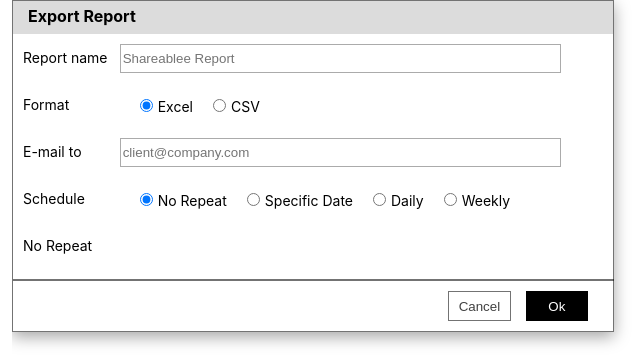
Export report modal basic functionalities tests › should be able to check schedule radio buttons
Click the radio button labelled "Specific Date": (253, 200) [247,193,260,206]
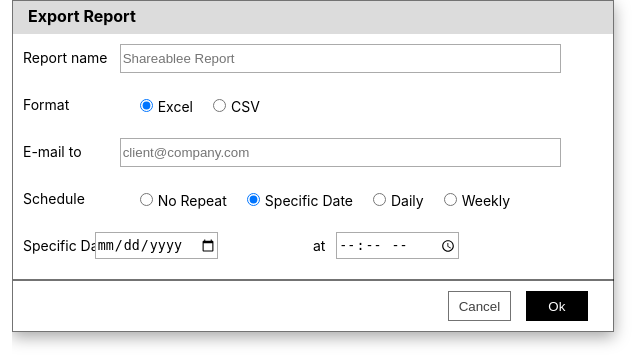
Check: the radio button labelled "Specific Date" is checked, box [247,193,260,206]
Check: the radio button labelled "No Repeat" is not checked, box [140,193,153,206]
